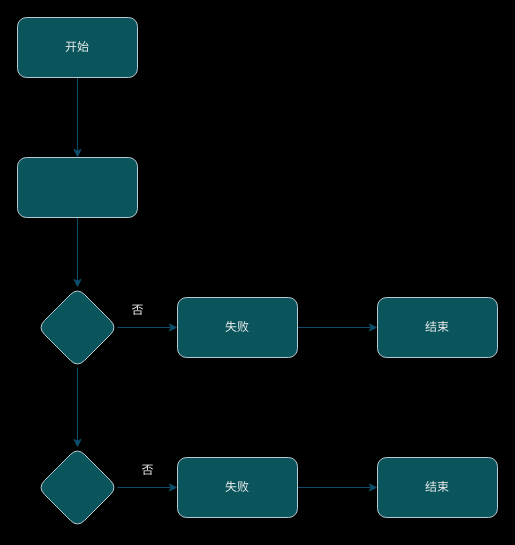
Some shapes in this 515 by 545 pixel diagram are drawn without their labels. The shapes that lost their labels are listed below. From the top down, each one's centre as x and y in pixels, then its label:
At point 77,187: "xxl-job 输入projectId".
At point 77,327: "项目是否存在".
At point 77,487: "判断执行时间是否在结果统计时间内".
